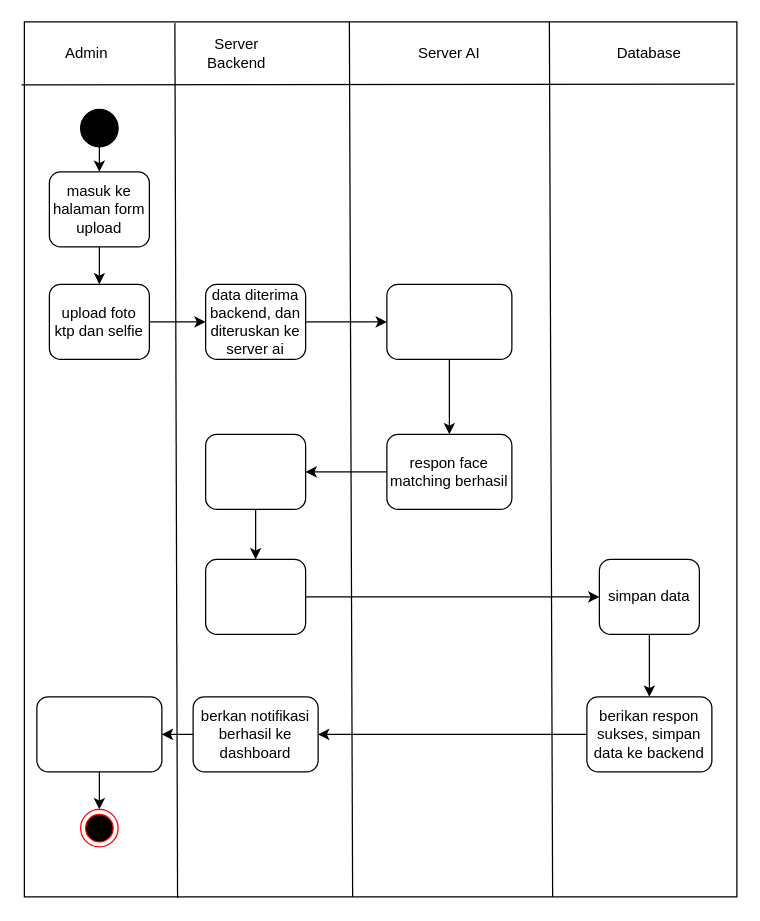
The diagram is 760 pixels wide and 921 high, and some of its shapes have lost their labels. Here are the shapes that lost their labels. From the top down, the centre of each, then its label:
the point at 449,321: data di proses di server ai dengan, face matching
the point at 255,471: menerima hasil dari server ai
the point at 255,596: menyimpan ke database
the point at 99,734: halaman dashboard
